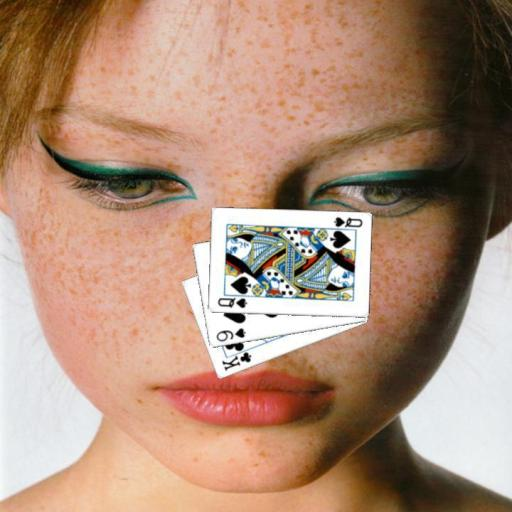card-corner: (218, 344, 253, 373), (212, 325, 246, 343), (215, 294, 248, 310), (331, 214, 363, 229)
